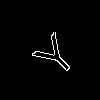Y: (24, 24, 81, 81)
